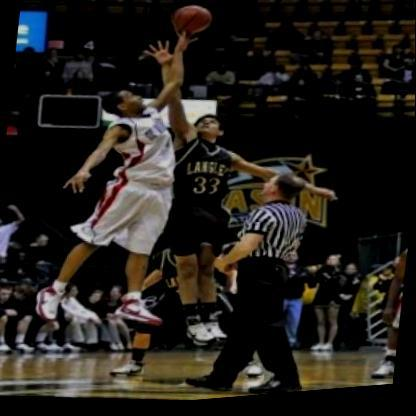basketball: (167, 0, 216, 47)
